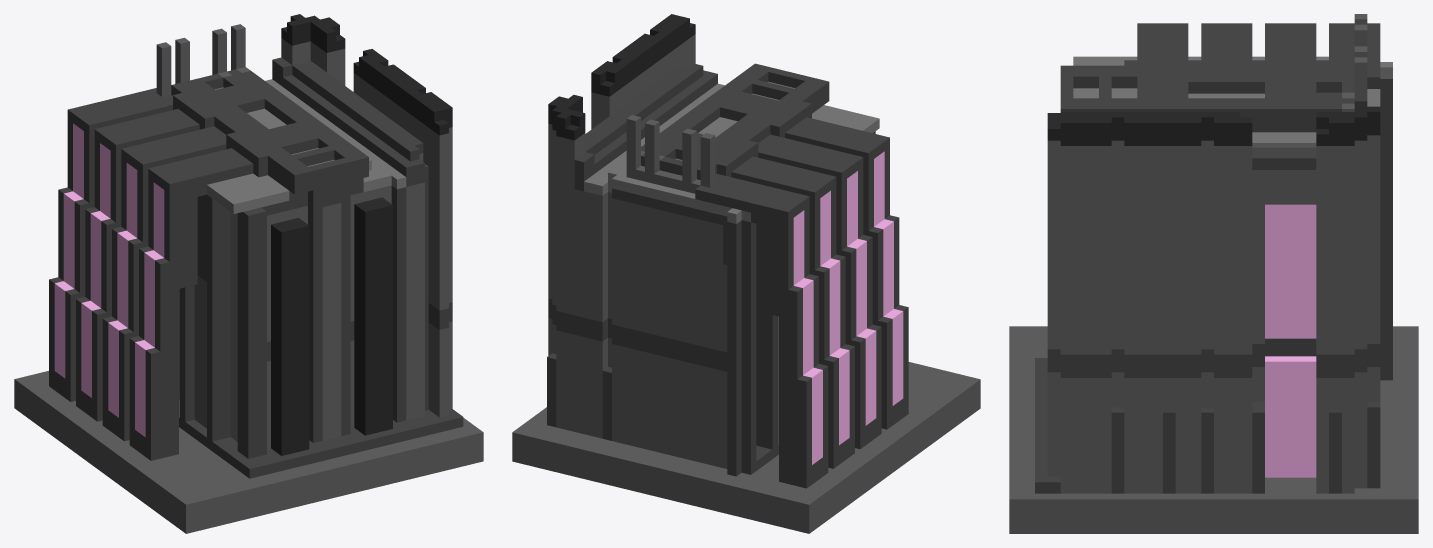
File: _g_logistic_2.obj
3 views of the same model, side by side, from view 1: azimuth 30°, elevation 25°; view 2: azimuth 150°, elevation 25°; view 3: azimuth 270°, elevation 25° (orthographic). The views are drawn at different scales.
Bounding box in the file's own units: 3.2 × 3.6 × 3.2.
